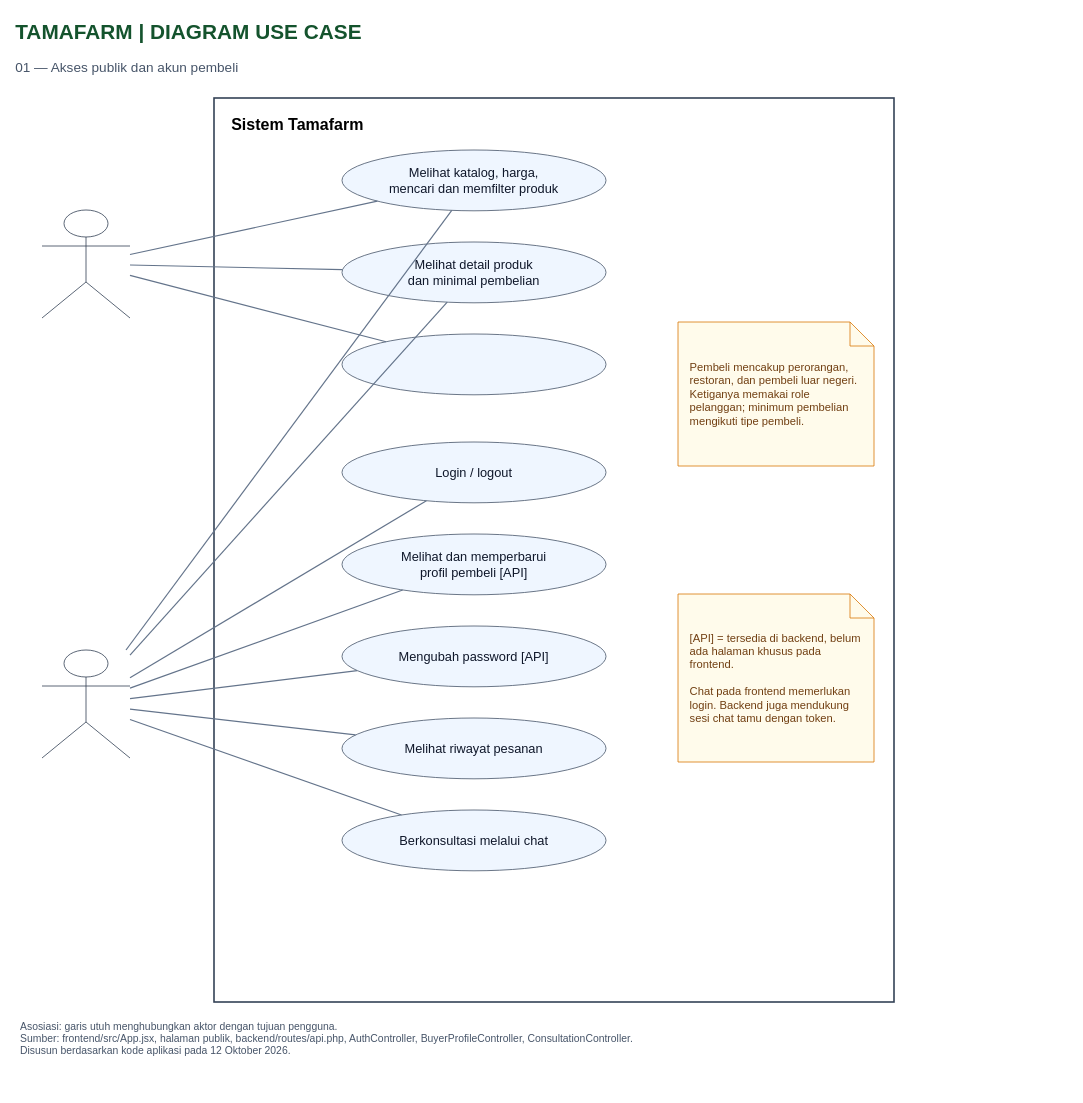
Some shapes in this 1083 by 1103 pixel diagram are drawn without their labels. The centre of each missing label's shape, as x and y in pixels:
Mendaftar akun pembeli: point 473,364
Pembeli (pelanggan): point 85,703
Pengunjung: point 85,263
